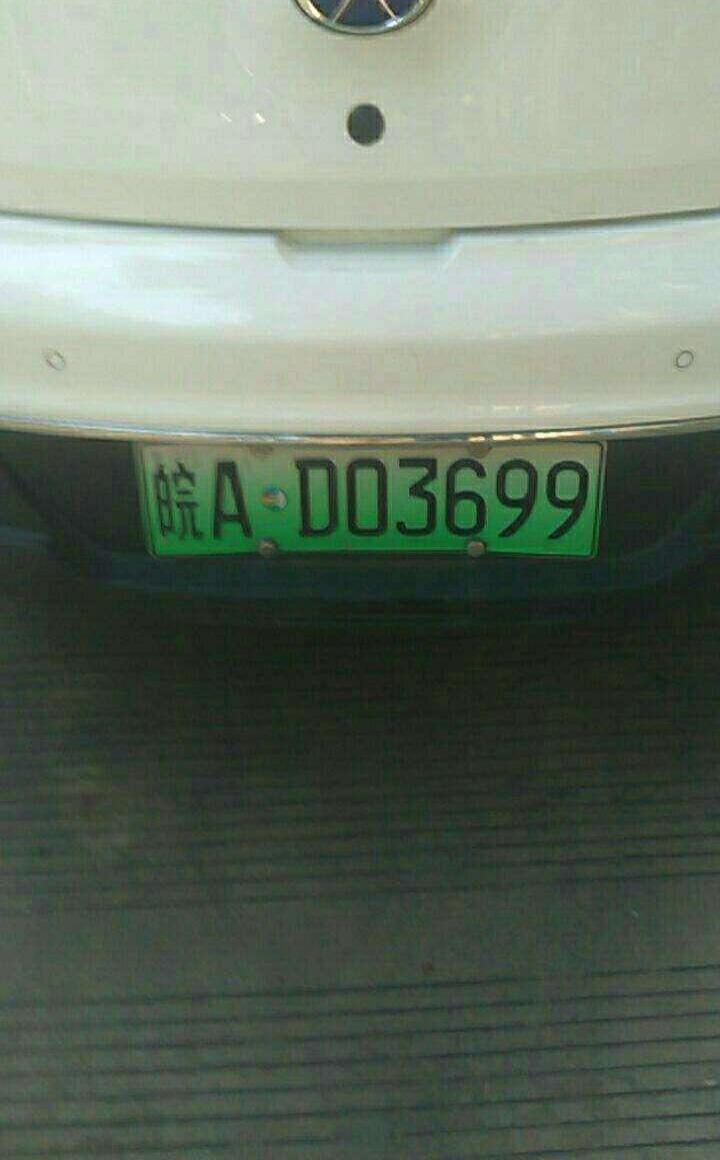car_id: (138, 443, 606, 554)
